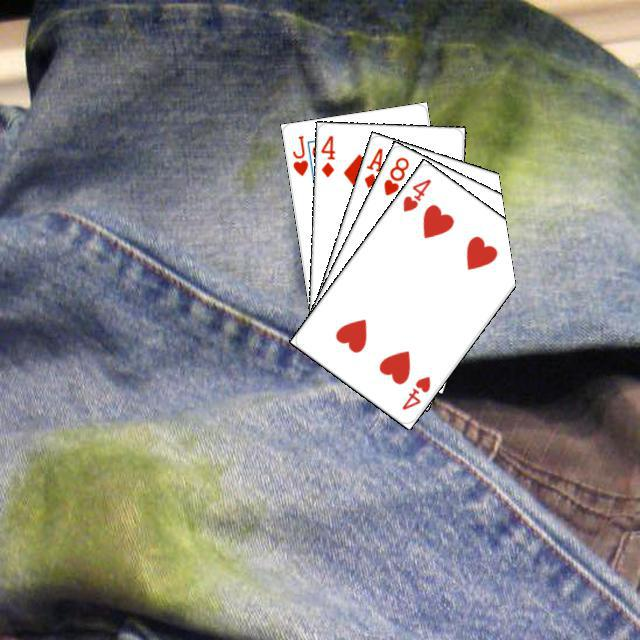4d: (316, 131, 337, 179)
4h: (397, 371, 432, 412), (398, 174, 433, 214)
8h: (378, 152, 411, 197)
Ad: (359, 143, 385, 190)
Jh: (288, 130, 310, 178)
